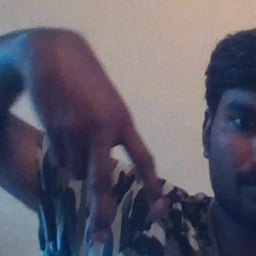Y: (40, 64, 171, 245)
